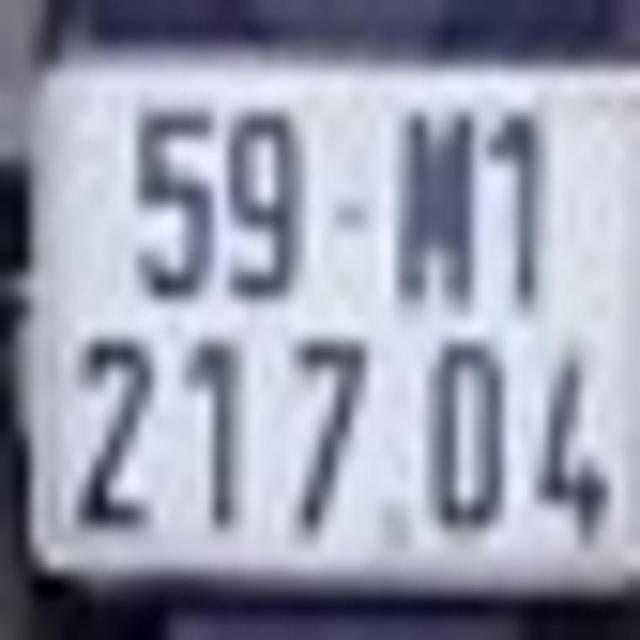0: (430, 334, 506, 534)
1: (182, 334, 242, 532), (489, 108, 545, 310)
2: (75, 332, 157, 531)
4: (538, 349, 612, 547)
5: (131, 102, 218, 300)
7: (284, 329, 370, 540)
9: (225, 106, 302, 301)
M: (398, 104, 478, 312)
